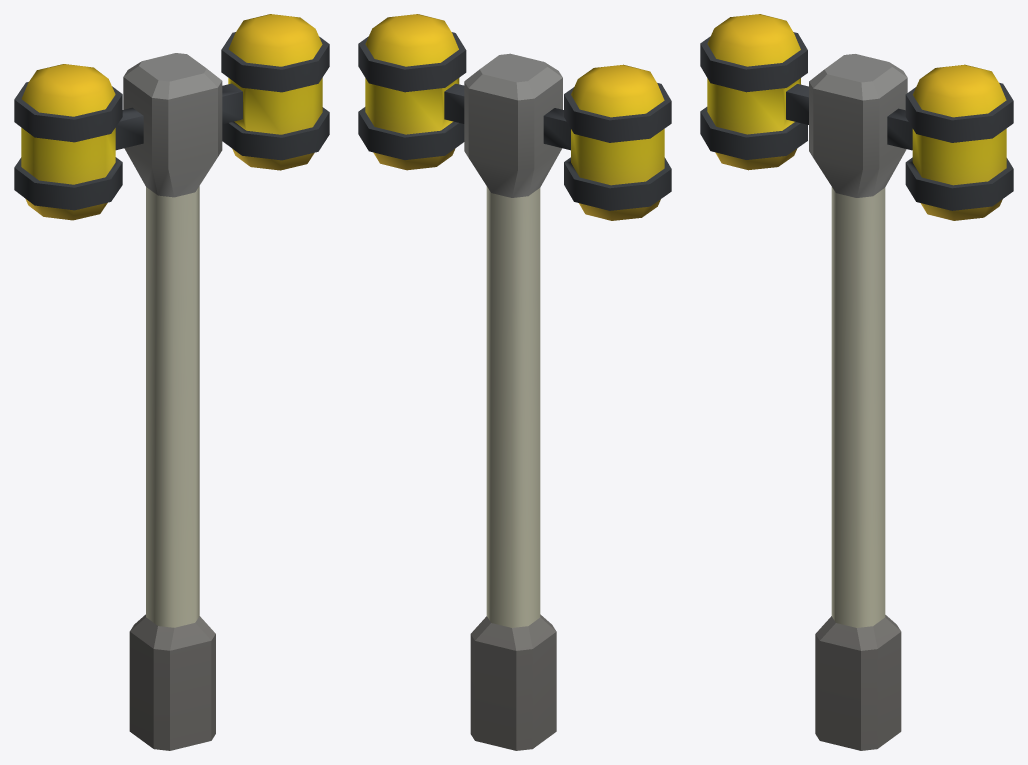
The model's file is Lamp_post.fbx.
3 renders of one model, left to right at view 1: azimuth 30°, elevation 25°; view 2: azimuth 150°, elevation 25°; view 3: azimuth 330°, elevation 25°, orthographic.
Visible parts, largest first — view 1: Lamp_post; view 2: Lamp_post; view 3: Lamp_post.
Part boxes in pixels (x1,y1,x2,y2): Lamp_post: (14, 14, 329, 750); Lamp_post: (358, 14, 671, 750); Lamp_post: (700, 14, 1013, 750).
Bounding box in the file's own units: 148 × 330 × 44.74.
